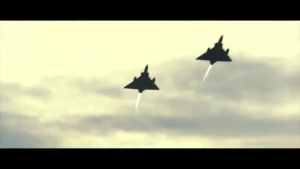flight: (195, 34, 233, 66), (124, 63, 159, 94)
